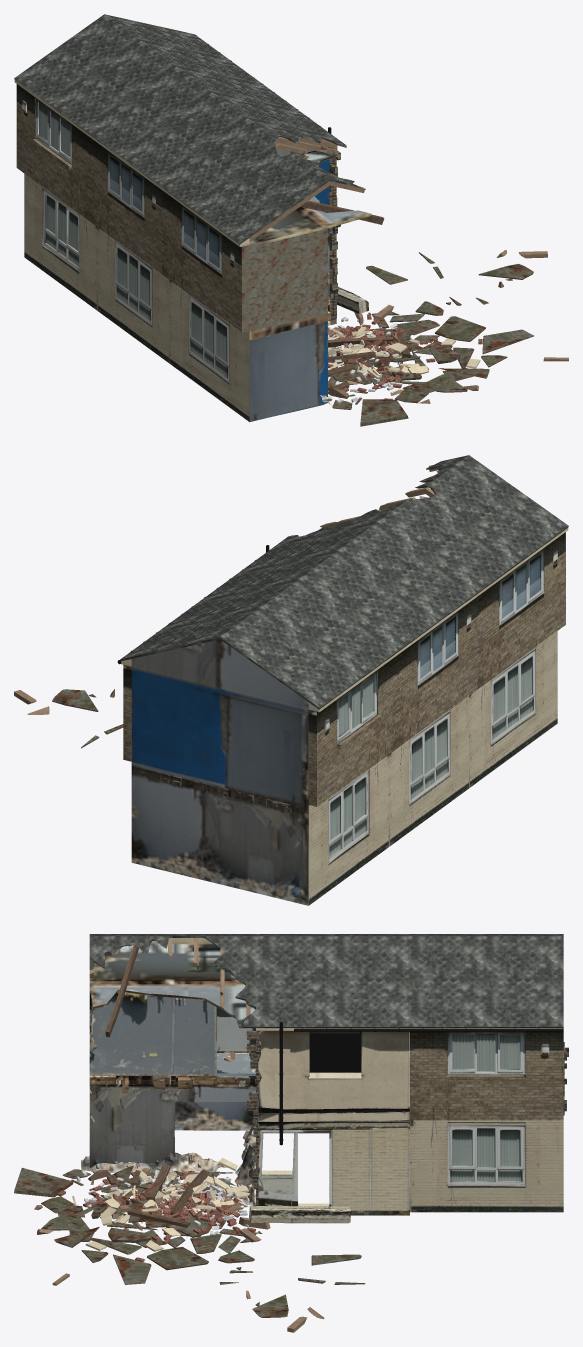
The model's file is house3.glb.
3 views of the same model, one above another, from view 1: azimuth 30°, elevation 25°; view 2: azimuth 150°, elevation 25°; view 3: azimuth 270°, elevation 25° (orthographic). The views are drawn at different scales.
Parts seen in each view (by area): view 1: Object_16, Object_12, Object_6, Object_4, Object_8, Object_7, Object_9, Object_13, Object_10, Object_15, Object_3, Object_5; view 2: Object_16, Object_12, Object_8, Object_9, Object_13, Object_6; view 3: Object_12, Object_16, Object_9, Object_7, Object_8, Object_6, Object_10, Object_15, Object_2, Object_13, Object_11, Object_3 (+1 smaller).
Boxes of the visible parts, <box> form: Object_16: <box>16,84,249,421</box>; Object_12: <box>14,14,360,244</box>; Object_6: <box>328,252,533,426</box>; Object_4: <box>242,228,327,332</box>; Object_8: <box>249,136,489,421</box>; Object_7: <box>242,147,370,339</box>; Object_9: <box>14,80,480,395</box>; Object_13: <box>249,137,568,403</box>; Object_10: <box>328,314,482,399</box>; Object_15: <box>300,200,410,389</box>; Object_3: <box>329,146,340,324</box>; Object_5: <box>328,317,402,403</box>; Object_16: <box>123,532,565,905</box>; Object_12: <box>120,455,568,709</box>; Object_8: <box>131,639,308,905</box>; Object_9: <box>121,528,568,712</box>; Object_13: <box>14,465,439,714</box>; Object_6: <box>52,689,123,748</box>; Object_12: <box>89,934,563,1027</box>; Object_16: <box>410,1031,563,1212</box>; Object_9: <box>72,938,563,1251</box>; Object_7: <box>89,943,256,1093</box>; Object_8: <box>54,1008,568,1265</box>; Object_6: <box>14,1074,365,1317</box>; Object_10: <box>57,1170,255,1261</box>; Object_15: <box>105,945,207,1227</box>; Object_2: <box>309,1033,361,1072</box>; Object_13: <box>34,938,324,1332</box>; Object_11: <box>279,1022,563,1145</box>; Object_3: <box>247,1031,261,1205</box>.
Size of the model in its own units: 22.42 by 12.01 by 25.27.
Materials: 15 (14 with a texture image).
